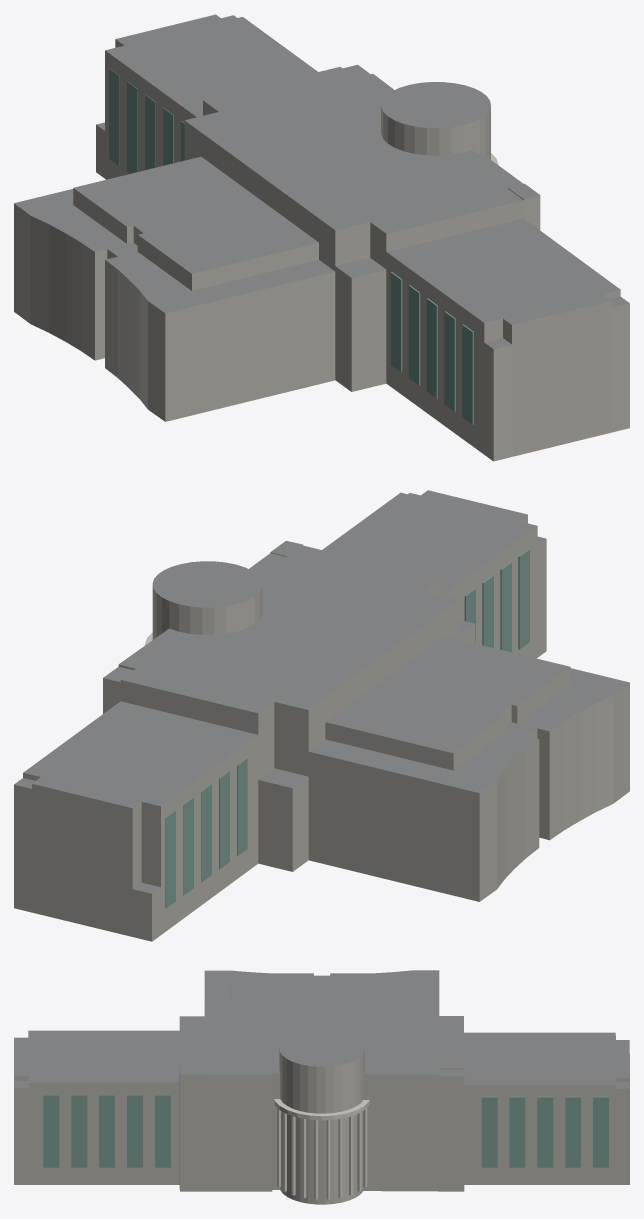
The model's file is matheson_courthouse.glb.
3 views of the same model, one above another, from view 1: azimuth 30°, elevation 25°; view 2: azimuth 150°, elevation 25°; view 3: azimuth 270°, elevation 25° (orthographic). The views are drawn at different scales.
Parts seen in each view (by area): view 1: Matheson_Courthouse; view 2: Matheson_Courthouse; view 3: Matheson_Courthouse.
Boxes of the visible parts, x1,y1,x2,y2 form: Matheson_Courthouse: [14, 14, 629, 461]; Matheson_Courthouse: [14, 490, 629, 941]; Matheson_Courthouse: [14, 970, 629, 1204].
Size of the model in its own units: 90.51 by 38.2 by 155.
